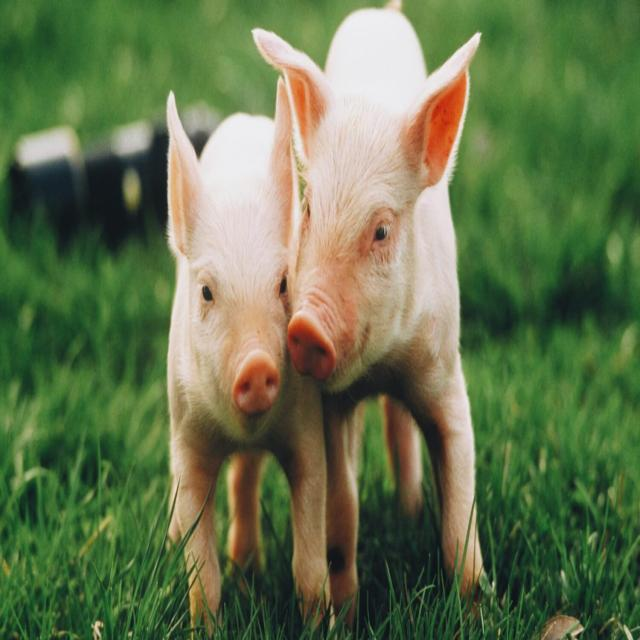Pig: (249, 0, 486, 590), (158, 73, 334, 636)
